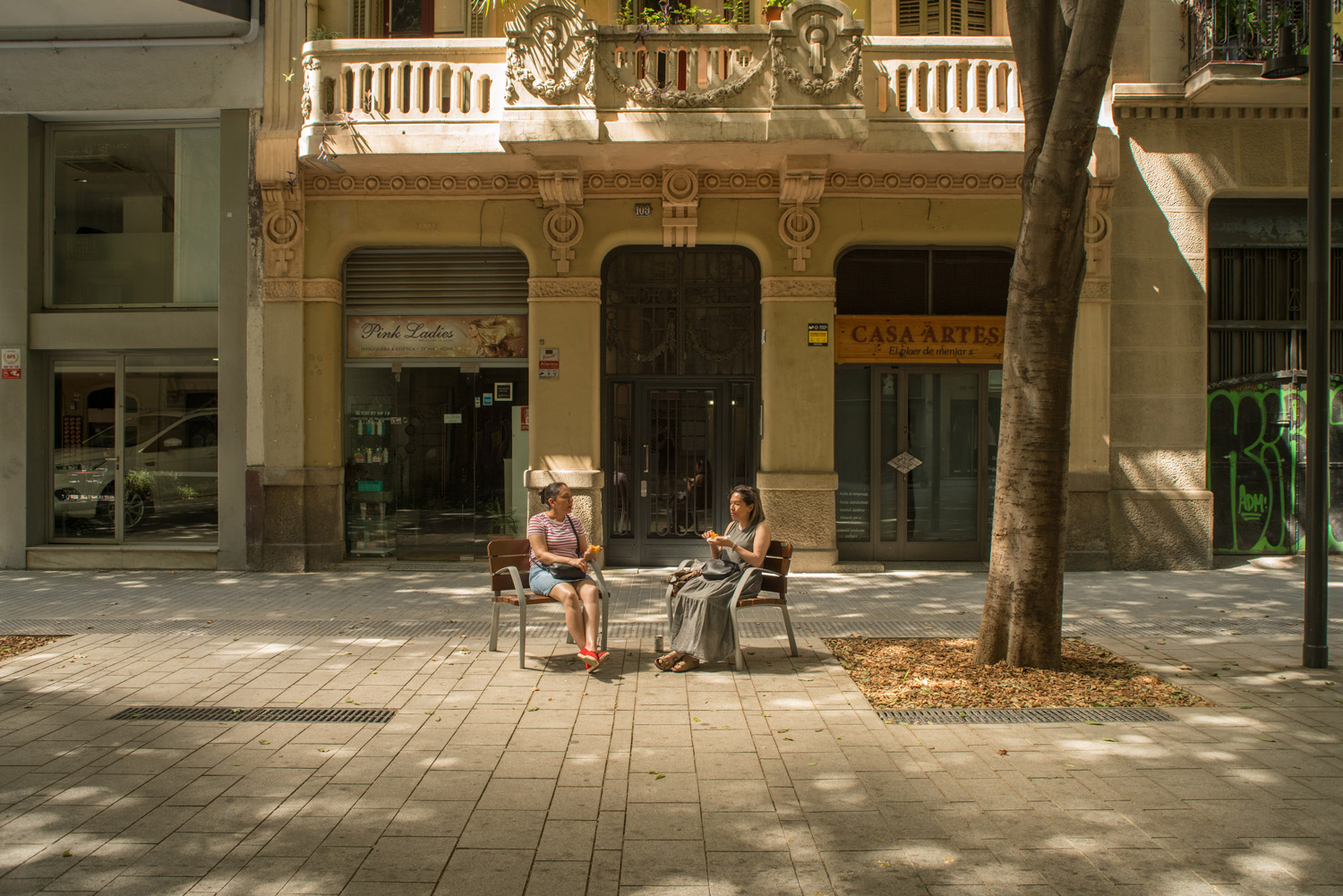Tree: (989, 4, 1111, 680)
